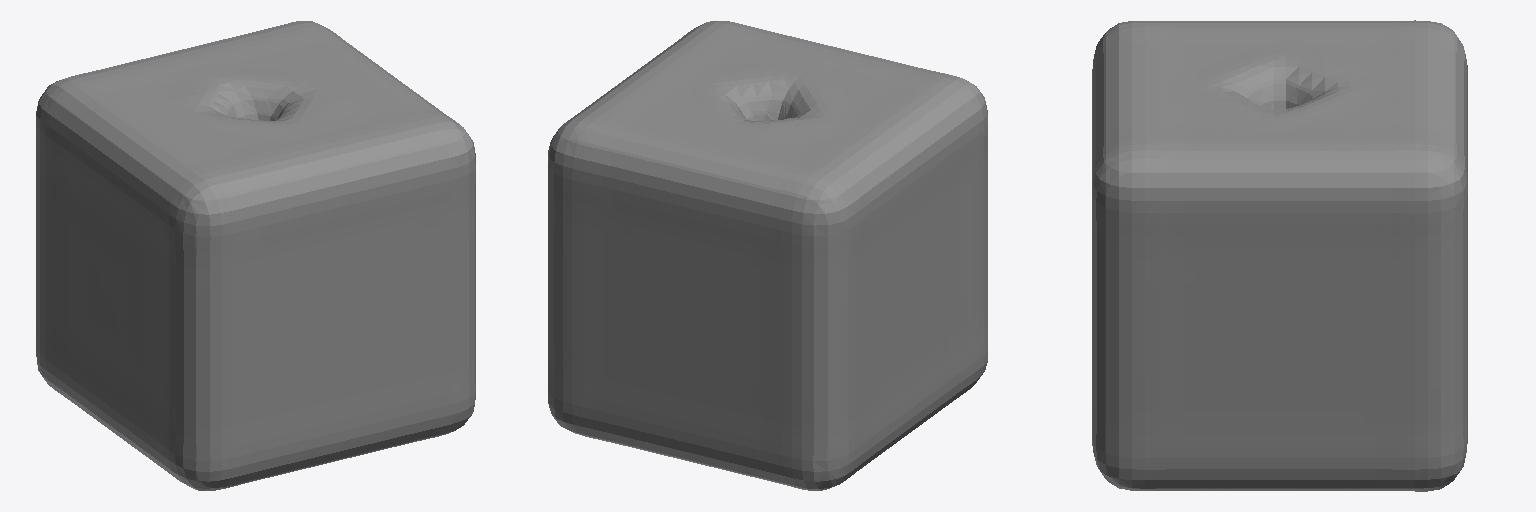
robot.urdf — cube.urdf:
<?xml version="0.0" ?> 
<robot name="cube.urdf"> 
<link name="legobrick"> 
<contact> 
<lateral_friction value="5.0"/> 
<rolling_friction value="0.0"/> 
<contact_cfm value="0.0"/> 
<contact_erp value="1.0"/> 
</contact> 
<inertial> 
<origin rpy="0 0 0" xyz="0.0 0.0 0.0"/> 
<mass value=".01"/> 
<inertia ixx="1" ixy="0" ixz="0" iyy="1" iyz="0" izz="1"/> 
</inertial> 
<visual> 
<origin rpy="1.570796 0 0" xyz="-0.025865287372008605 0.025868883378031553 -0.026389996301477616"/> 
<geometry> 
<mesh filename="I03_0.obj" scale="0.0006999996885876387 0.0006999996885876387 0.0006999996885876387"/> 
</geometry> 
<material name="yellow"> 
<color rgba="0.6 0.6 0.6 1"/> 
</material> 
</visual> 
<collision> 
<origin rpy="1.570796 0 0" xyz="-0.025865287372008605 0.025868883378031553 -0.026389996301477616"/> 
<geometry> 
<mesh filename="I03_0.obj" scale="0.0006999996885876387 0.0006999996885876387 0.0006999996885876387"/> 
</geometry> 
</collision> 
</link> 
</robot>

--- Render facts (derived) ---
3 views of the same robot in one strip: view 1: azimuth 30°, elevation 25°; view 2: azimuth 150°, elevation 25°; view 3: azimuth 270°, elevation 25° (orthographic).
Model cube.urdf with 1 links and 0 joints (none), rooted at legobrick, posed all joints at 0.
Visible links, largest first — view 1: legobrick; view 2: legobrick; view 3: legobrick.
Link boxes in pixels (<box>): legobrick: <box>36,21,475,490</box>; legobrick: <box>548,21,987,490</box>; legobrick: <box>1092,20,1467,491</box>.
Bounding box of the posed robot: 0.056 × 0.056 × 0.056 m (x, y, z).
Meshes: 1 distinct files referenced, 1 mesh visuals loaded (1 OBJ).
